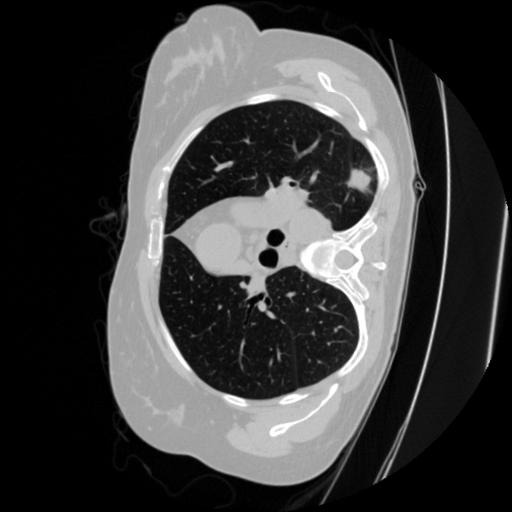nodule: (341, 165, 376, 200)
